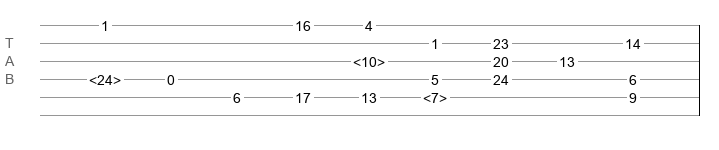0: (167, 72, 175, 82)
1: (101, 18, 109, 28), (431, 36, 439, 46)
13: (361, 90, 377, 100), (559, 54, 575, 64)
14: (625, 36, 641, 46)
16: (295, 18, 311, 28)
17: (295, 90, 311, 100)
20: (493, 54, 509, 64)
23: (493, 36, 509, 46)
24: (493, 72, 509, 82)
4: (365, 18, 373, 28)
5: (431, 72, 439, 82)
6: (233, 90, 241, 100), (629, 72, 637, 82)
9: (629, 90, 637, 100)
harmonic: (89, 72, 121, 82), (353, 54, 385, 64), (423, 90, 447, 100)
